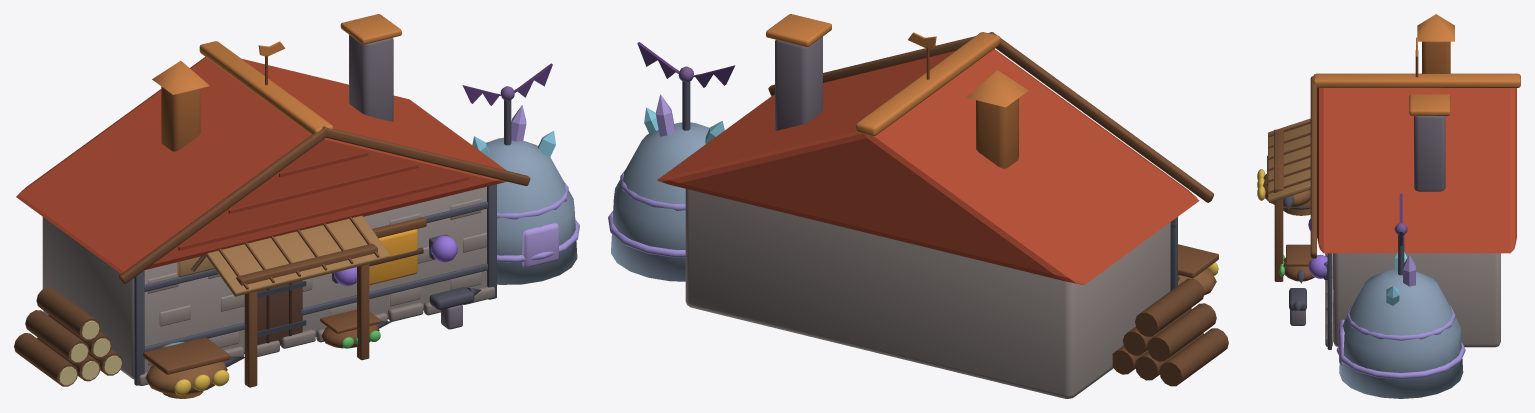
Rendered from forge4.glb.
3 renders of one model, left to right at view 1: azimuth 30°, elevation 25°; view 2: azimuth 150°, elevation 25°; view 3: azimuth 270°, elevation 25°, orthographic. The views are drawn at different scales.
Visible parts, largest first — view 1: base, crystal-kiln, glimmer-glaze, echo-vane; view 2: base, crystal-kiln, echo-vane, glimmer-glaze; view 3: base, crystal-kiln, glimmer-glaze, echo-vane.
Boxes of the visible parts, box(x1,y1,x2,y2) form: base: box(14, 14, 530, 398); crystal-kiln: box(472, 105, 577, 284); glimmer-glaze: box(497, 182, 579, 267); echo-vane: box(462, 63, 552, 145); base: box(657, 14, 1228, 398); crystal-kiln: box(611, 94, 724, 281); echo-vane: box(637, 42, 735, 130); glimmer-glaze: box(608, 170, 685, 257); base: box(1257, 14, 1520, 349); crystal-kiln: box(1339, 252, 1463, 398); glimmer-glaze: box(1336, 305, 1465, 379); echo-vane: box(1394, 193, 1407, 275).
Bounding box in the file's own units: 8.65 × 4.03 × 4.14.
